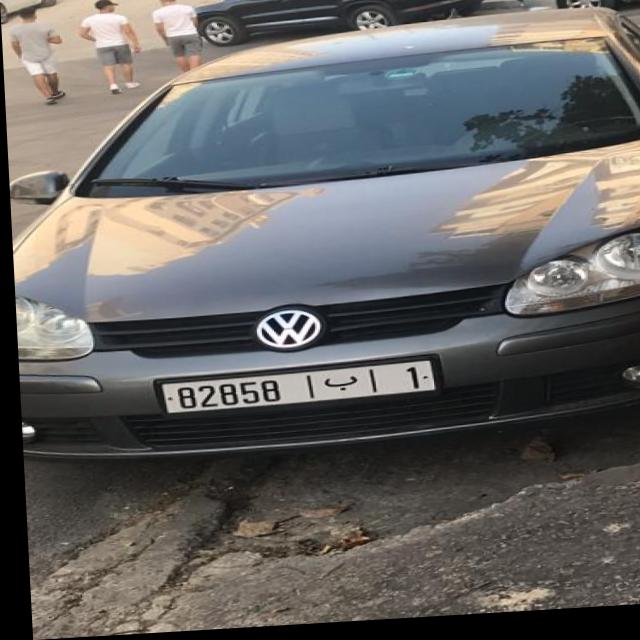License-Plate: (159, 366, 433, 415)
